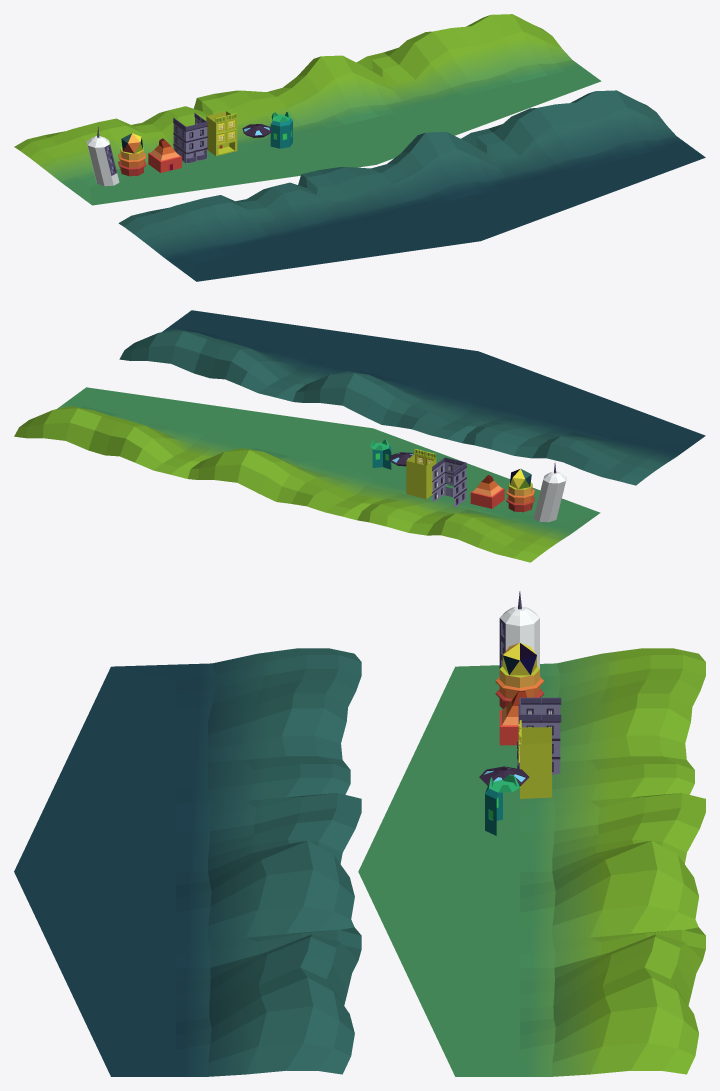
File: environment.fbx
The picture shows the model from 3 angles, top to bottom: view 1: azimuth 30°, elevation 25°; view 2: azimuth 150°, elevation 25°; view 3: azimuth 270°, elevation 25°; orthographic projection. The views are drawn at different scales.
Visible parts, largest first — view 1: Terrain_02, Terrain_01, House1, House_02, Building_01, Building_02, House_03, Building_03; view 2: Terrain_02, Terrain_01, House1, House_02, Building_01, Building_02, House_03, Building_03; view 3: Terrain_02, Terrain_01, House_02, Building_02, House1, Building_01, Building_03, House_03.
Boxes of the visible parts, <box> form: Terrain_02: <box>118,90,705,281</box>; Terrain_01: <box>14,14,601,205</box>; House1: <box>173,112,207,163</box>; House_02: <box>206,111,237,155</box>; Building_01: <box>86,127,119,186</box>; Building_02: <box>118,133,146,176</box>; House_03: <box>148,138,181,172</box>; Building_03: <box>270,112,292,148</box>; Terrain_02: <box>119,310,705,485</box>; Terrain_01: <box>14,387,600,562</box>; House1: <box>432,457,466,507</box>; House_02: <box>406,449,436,498</box>; Building_01: <box>533,462,566,522</box>; Building_02: <box>506,468,534,512</box>; House_03: <box>470,475,504,508</box>; Building_03: <box>370,439,391,469</box>; Terrain_02: <box>14,648,361,1076</box>; Terrain_01: <box>358,648,705,1076</box>; House_02: <box>518,720,551,798</box>; Building_02: <box>495,643,543,708</box>; House1: <box>517,697,561,774</box>; Building_01: <box>499,591,539,668</box>; Building_03: <box>485,774,519,835</box>; House_03: <box>499,691,526,745</box>.
Size of the model in its own units: 4893 by 532 by 3420.
